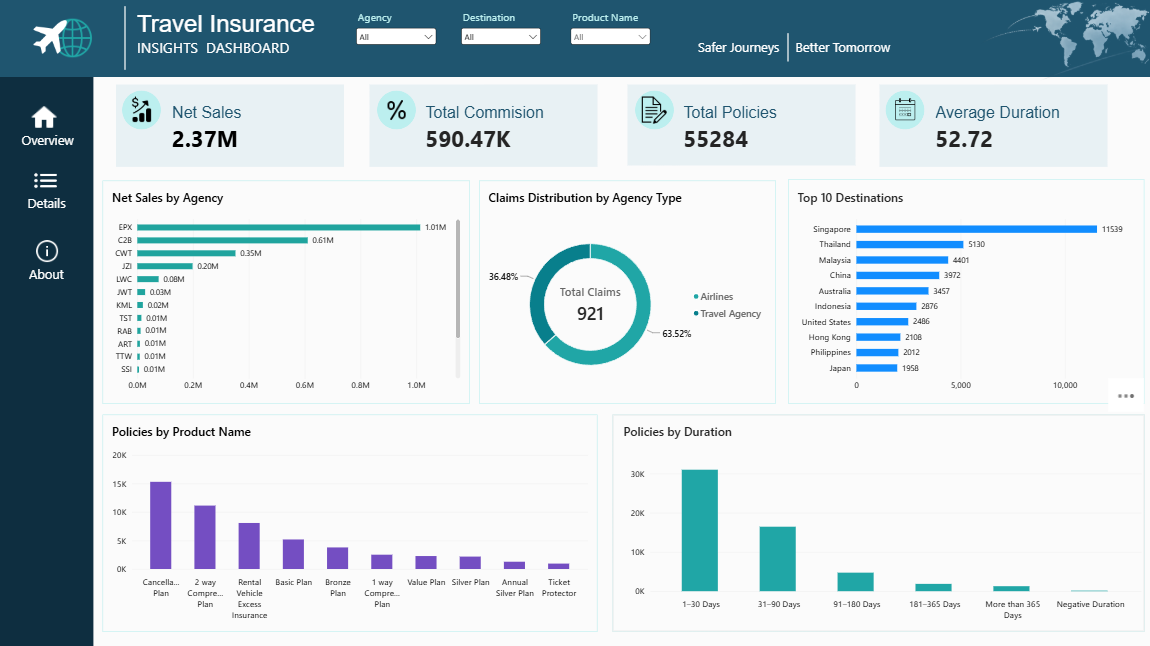

What the dashboard file says about the page in this screenshot:
{"tool":"powerbi","page":{"name":"Page 1","canvas":[1920,1080],"ordinal":0},"visuals":[{"type":"shape","box":[195,142.5,380,137.5],"z":0},{"type":"shape","box":[0,0,1920,130],"z":1000},{"type":"shape","box":[0,130,157.5,950],"z":2000},{"type":"image","box":[87.5,30,70,70],"z":3000},{"type":"image","box":[57.5,35,56,56],"z":4000},{"type":"shape","box":[190,12.5,40,105],"z":5000},{"type":"textbox","title":"Travel Insurance","box":[230,17.5,325,87.5],"z":6000},{"type":"image","box":[52.5,175,45,45],"z":7000},{"type":"textbox","box":[36.6,219.6,102.5,29.3],"z":8000},{"type":"image","box":[56.1,280.6,45,45],"z":9000},{"type":"textbox","box":[46.4,324.5,75.6,34.2],"z":10000},{"type":"image","box":[58.6,397.7,45,45],"z":11000},{"type":"textbox","box":[48.8,441.6,70.8,43.9],"z":12000},{"type":"shape","box":[204.9,153.7,65,65],"z":13000},{"type":"cardVisual","fields":{"Data":["Sum(travel insurance.Net Sales)"]},"box":[273.3,153.7,290.3,126.9],"z":14000},{"type":"shape","box":[617.5,142.5,380,137.5],"z":15000},{"type":"shape","box":[1047.5,142.5,380,135],"z":16000},{"type":"shape","box":[1467.5,142.5,380,137.5],"z":17000},{"type":"image","box":[214.7,163.5,45,45],"z":18000},{"type":"shape","box":[629.5,153.7,65,65],"z":19000},{"type":"image","box":[639.2,163.5,45,45],"z":20000},{"type":"cardVisual","fields":{"Data":["Sum(travel insurance.Commision (in value))"]},"box":[695.3,153.7,290,126],"z":21000},{"type":"shape","box":[1058.9,153.7,65,65],"z":22000},{"type":"shape","box":[1478.5,153.7,65,65],"z":23000},{"type":"image","box":[1068.6,163.5,45,45],"z":24000},{"type":"cardVisual","fields":{"Data":["travel insurance.Total Policies"]},"box":[1124.8,153.7,290,126],"z":25000},{"type":"image","box":[1488.3,163.5,45,45],"z":26000},{"type":"cardVisual","fields":{"Data":["Avg(travel insurance.Duration)"]},"box":[1544.4,153.7,290,126],"z":27000},{"type":"shape","box":[172.5,302.5,612.5,372.5],"z":28000},{"type":"barChart","title":"Net Sales by Agency","fields":{"Category":["travel insurance.Agency"],"Y":["Sum(travel insurance.Net Sales)"]},"box":[172.5,302.5,612.5,372.5],"z":29000},{"type":"shape","box":[800,302.5,495,372.5],"z":30000},{"type":"donutChart","title":"Claims Distribution by Agency Type","fields":{"Category":["travel insurance.Agency Type"],"Y":["travel insurance.Total Claims"]},"box":[800,302.5,495,372.5],"z":31000},{"type":"shape","box":[1315,300,594,375],"z":32000},{"type":"barChart","title":"Top 10 Destinations","fields":{"Category":["travel insurance.Destination"],"Y":["CountNonNull(travel insurance.Destination)"]},"box":[1315,302.5,595,372.5],"z":33000},{"type":"columnChart","title":"Policies by Product Name","fields":{"Category":["travel insurance.Product Name"],"Y":["travel insurance.Total Policies"]},"box":[172.5,692.5,825,362.5],"z":34000},{"type":"columnChart","title":"Policies by Duration","fields":{"Category":["travel insurance.Duration Range"],"Y":["travel insurance.Total Policies"]},"box":[1025,692.5,895,362.5],"z":35000},{"type":"shape","box":[1022.5,692.5,887.5,362.5],"z":36000},{"type":"shape","box":[172.5,692.5,825,362.5],"z":37000},{"type":"image","box":[1427.3,0,492.8,185.4],"z":38000},{"type":"slicer","fields":{"Values":["travel insurance.Agency"]},"box":[590.4,17.1,143.9,100],"z":39000},{"type":"slicer","fields":{"Values":["travel insurance.Destination"]},"box":[766.1,17.1,143,100],"z":40000},{"type":"slicer","fields":{"Values":["travel insurance.Product Name"]},"box":[946.6,17.1,143,100],"z":41000},{"type":"textbox","box":[1163.8,65.9,143.9,34],"z":42000},{"type":"shape","box":[1276,58.6,80,46.4],"z":43000},{"type":"textbox","box":[1327.3,65.9,161,34.2],"z":43001}]}

Visuals, with their boxes on the page's 1920x1080 design canvas (x1, y1, x2, y2). These are canvas units, not pixel positions in the 1150x646 screenshot, which may show the page scaled, cropped or inside an application window:
shape: <box>195,142,575,280</box>
shape: <box>0,0,1920,130</box>
shape: <box>0,130,158,1080</box>
image: <box>88,30,158,100</box>
image: <box>58,35,114,91</box>
shape: <box>190,12,230,118</box>
"Travel Insurance" textbox: <box>230,18,555,105</box>
image: <box>52,175,98,220</box>
textbox: <box>37,220,139,249</box>
image: <box>56,281,101,326</box>
textbox: <box>46,324,122,359</box>
image: <box>59,398,104,443</box>
textbox: <box>49,442,120,486</box>
shape: <box>205,154,270,219</box>
cardVisual - Sum(travel insurance.Net Sales): <box>273,154,564,281</box>
shape: <box>618,142,998,280</box>
shape: <box>1048,142,1428,278</box>
shape: <box>1468,142,1848,280</box>
image: <box>215,164,260,208</box>
shape: <box>630,154,694,219</box>
image: <box>639,164,684,208</box>
cardVisual - Sum(travel insurance.Commision (in value)): <box>695,154,985,280</box>
shape: <box>1059,154,1124,219</box>
shape: <box>1478,154,1544,219</box>
image: <box>1069,164,1114,208</box>
cardVisual - travel insurance.Total Policies: <box>1125,154,1415,280</box>
image: <box>1488,164,1533,208</box>
cardVisual - Avg(travel insurance.Duration): <box>1544,154,1834,280</box>
shape: <box>172,302,785,675</box>
"Net Sales by Agency" barChart: <box>172,302,785,675</box>
shape: <box>800,302,1295,675</box>
"Claims Distribution by Agency Type" donutChart: <box>800,302,1295,675</box>
shape: <box>1315,300,1909,675</box>
"Top 10 Destinations" barChart: <box>1315,302,1910,675</box>
"Policies by Product Name" columnChart: <box>172,692,998,1055</box>
"Policies by Duration" columnChart: <box>1025,692,1920,1055</box>
shape: <box>1022,692,1910,1055</box>
shape: <box>172,692,998,1055</box>
image: <box>1427,0,1920,185</box>
slicer - travel insurance.Agency: <box>590,17,734,117</box>
slicer - travel insurance.Destination: <box>766,17,909,117</box>
slicer - travel insurance.Product Name: <box>947,17,1090,117</box>
textbox: <box>1164,66,1308,100</box>
shape: <box>1276,59,1356,105</box>
textbox: <box>1327,66,1488,100</box>
